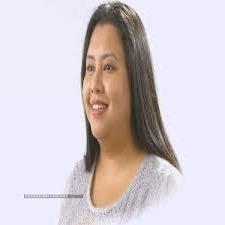Human: (31, 0, 192, 224)
